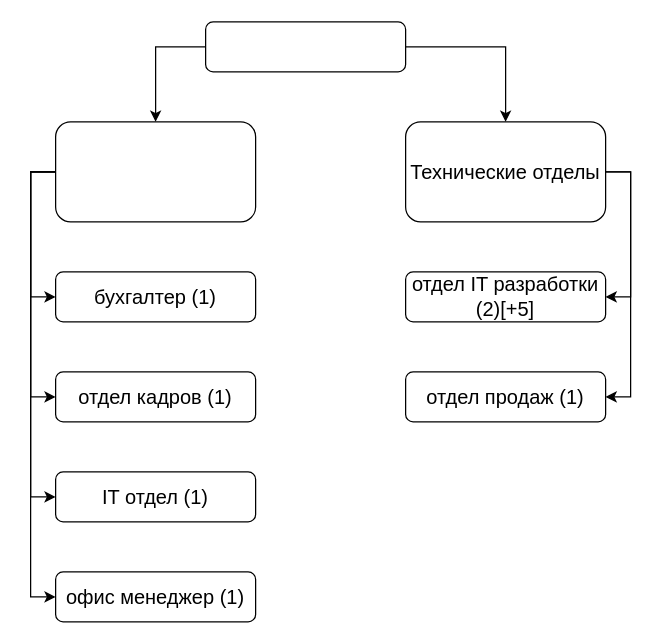
Some shapes in this 663 by 644 pixel diagram are drawn without their labels. The box of each missing label's shape, as (x1, y1, x2, y2) in pixels:
Директор (1): (204, 21, 406, 72)
Организационный отдел: (54, 121, 256, 222)
